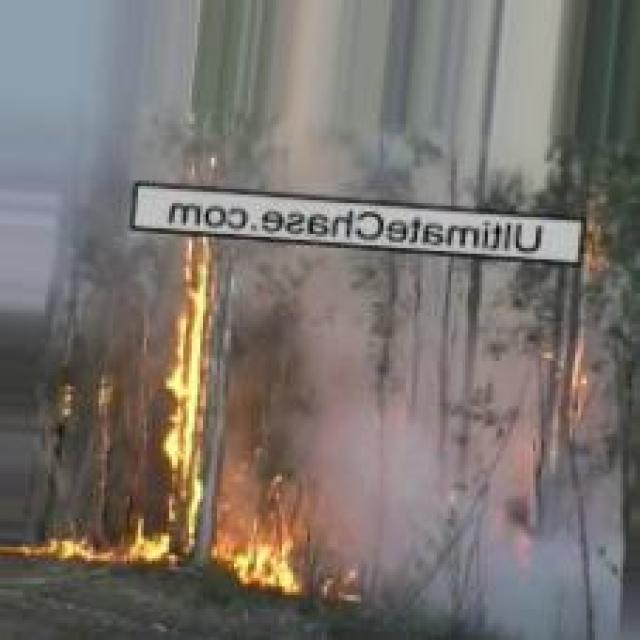smoke: (312, 412, 622, 614)
